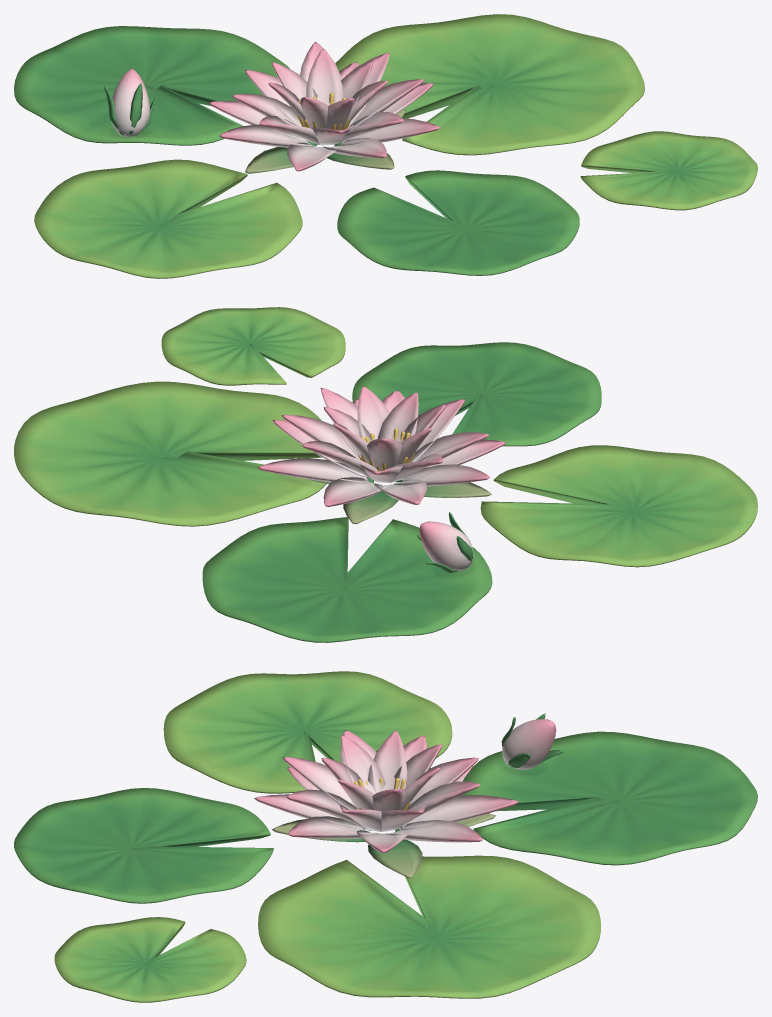
File: lily-pad.fbx
3 renders of one model, top to bottom at view 1: azimuth 30°, elevation 25°; view 2: azimuth 150°, elevation 25°; view 3: azimuth 270°, elevation 25°, orthographic. The views are drawn at different scales.
Visible parts, largest first — view 1: lily-pad_body; view 2: lily-pad_body; view 3: lily-pad_body.
Boxes of the visible parts, x1,y1,x2,y2 form: lily-pad_body: (14, 14, 757, 278); lily-pad_body: (14, 307, 757, 642); lily-pad_body: (14, 671, 757, 1002).
Bounding box in the file's own units: 0.5717 × 0.0717 × 0.5467.
Materials: 1 (1 with a texture image).
